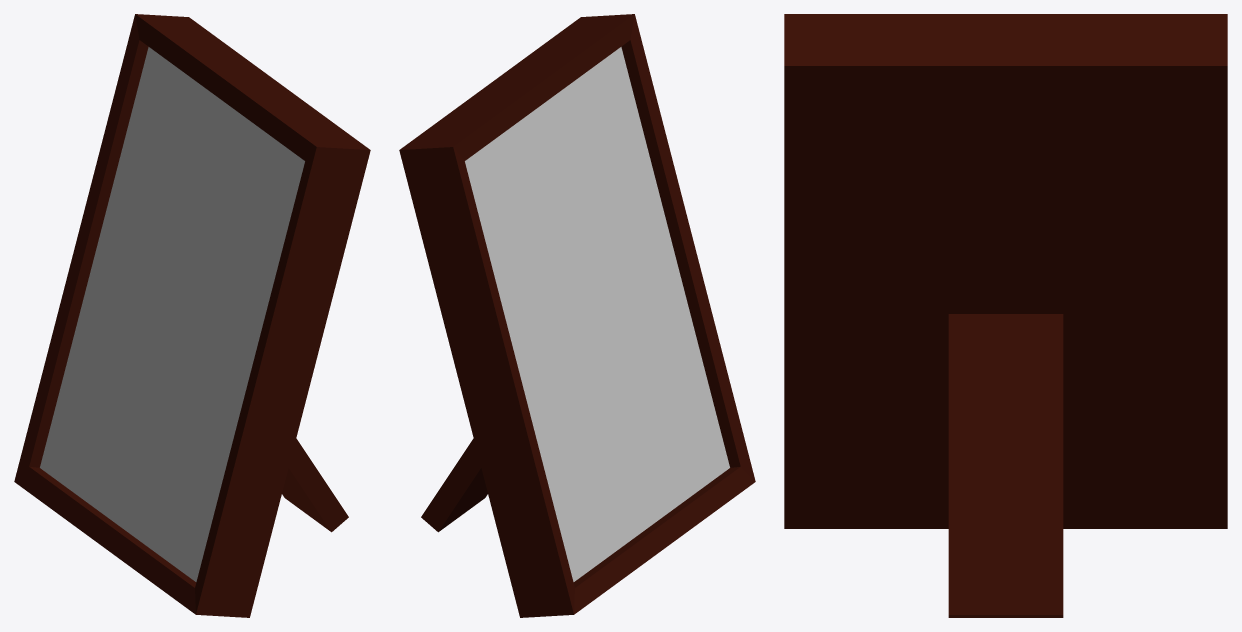
The model's file is PictureFrame.fbx.
The picture shows the model from 3 angles, left to right: view 1: azimuth 30°, elevation 25°; view 2: azimuth 150°, elevation 25°; view 3: azimuth 270°, elevation 25°; orthographic projection. The views are drawn at different scales.
Parts seen in each view (by area): view 1: Photo, Frame; view 2: Photo, Frame; view 3: Frame.
Boxes of the visible parts, x1,y1,x2,y2 form: Photo: (40,47,304,581); Frame: (14,14,370,617); Photo: (465,47,729,581); Frame: (399,14,755,617); Frame: (784,14,1227,617).
Size of the model in its own units: 0.9769 by 1.92 by 1.39.
